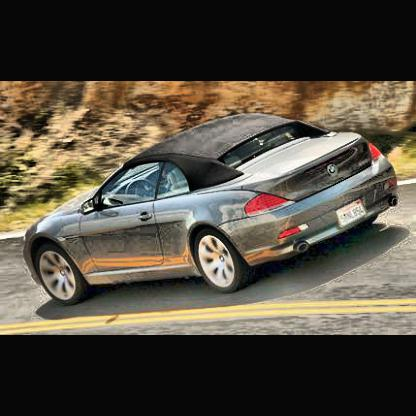BMW 6 Series Convertible 2007: (25, 114, 401, 308)
